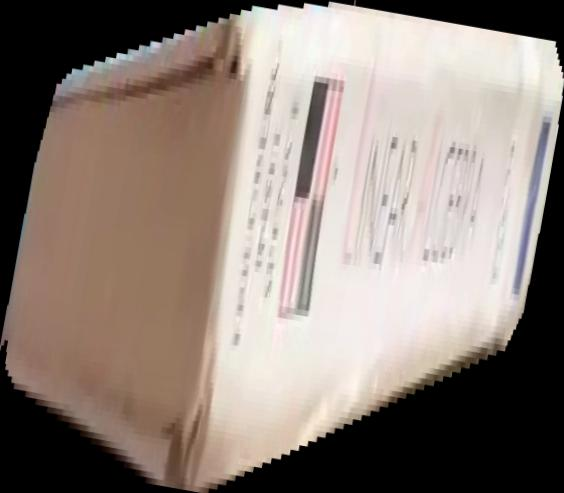flat: (1, 1, 564, 493)
